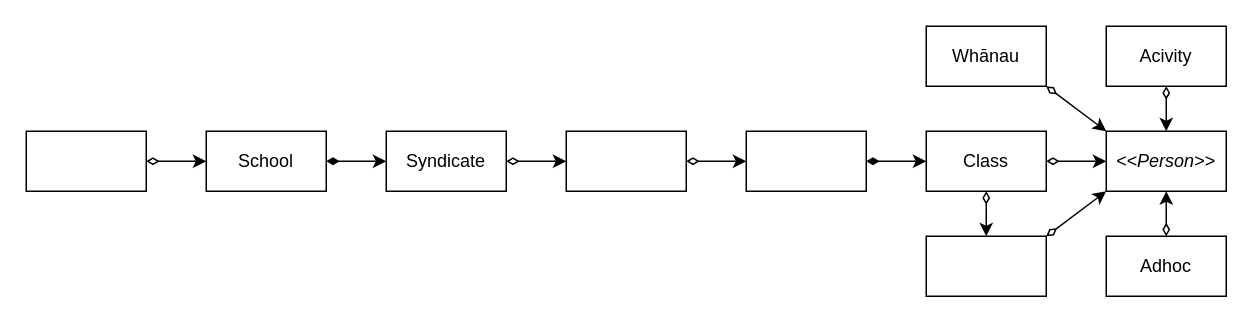
Some shapes in this 1253 by 323 pixel diagram are drawn without their labels. The centre of each missing label's shape, as x and y in pixels:
"Cohort" goes at point (625, 160).
"CoL" goes at point (85, 160).
"Course" goes at point (805, 160).
"Teaching Group" goes at point (985, 265).
